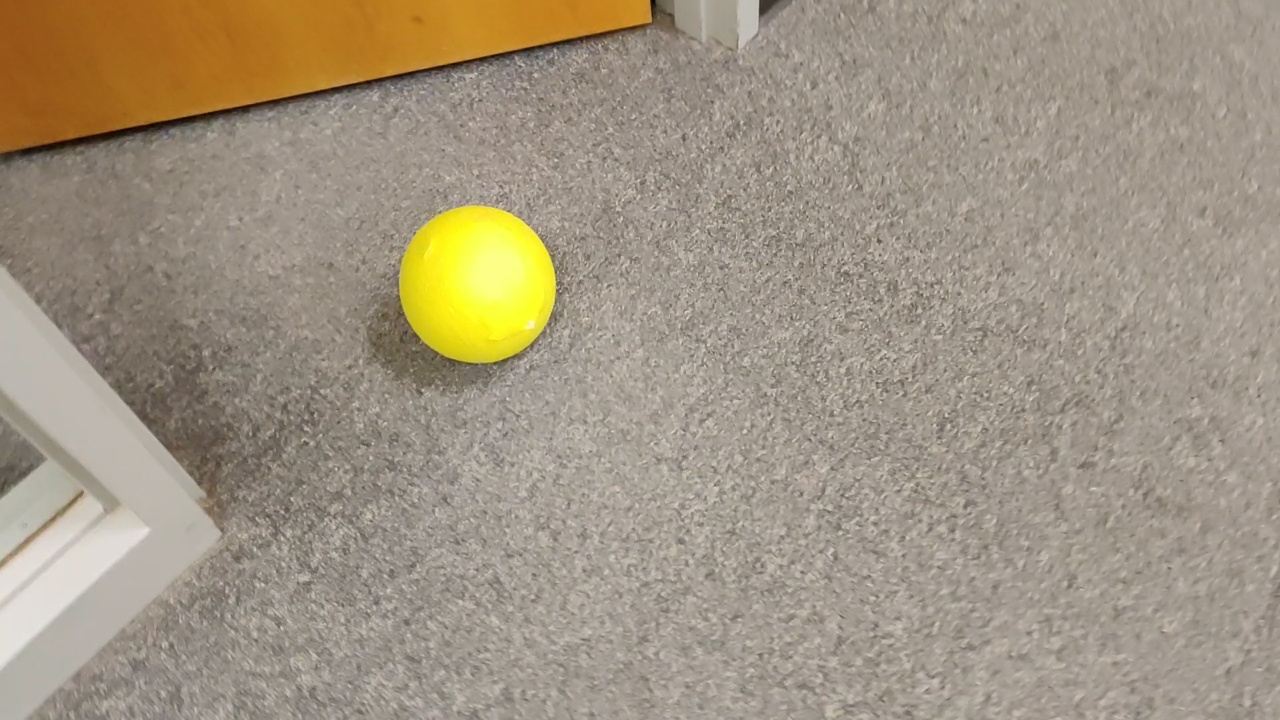Ball: (392, 206, 552, 376)
